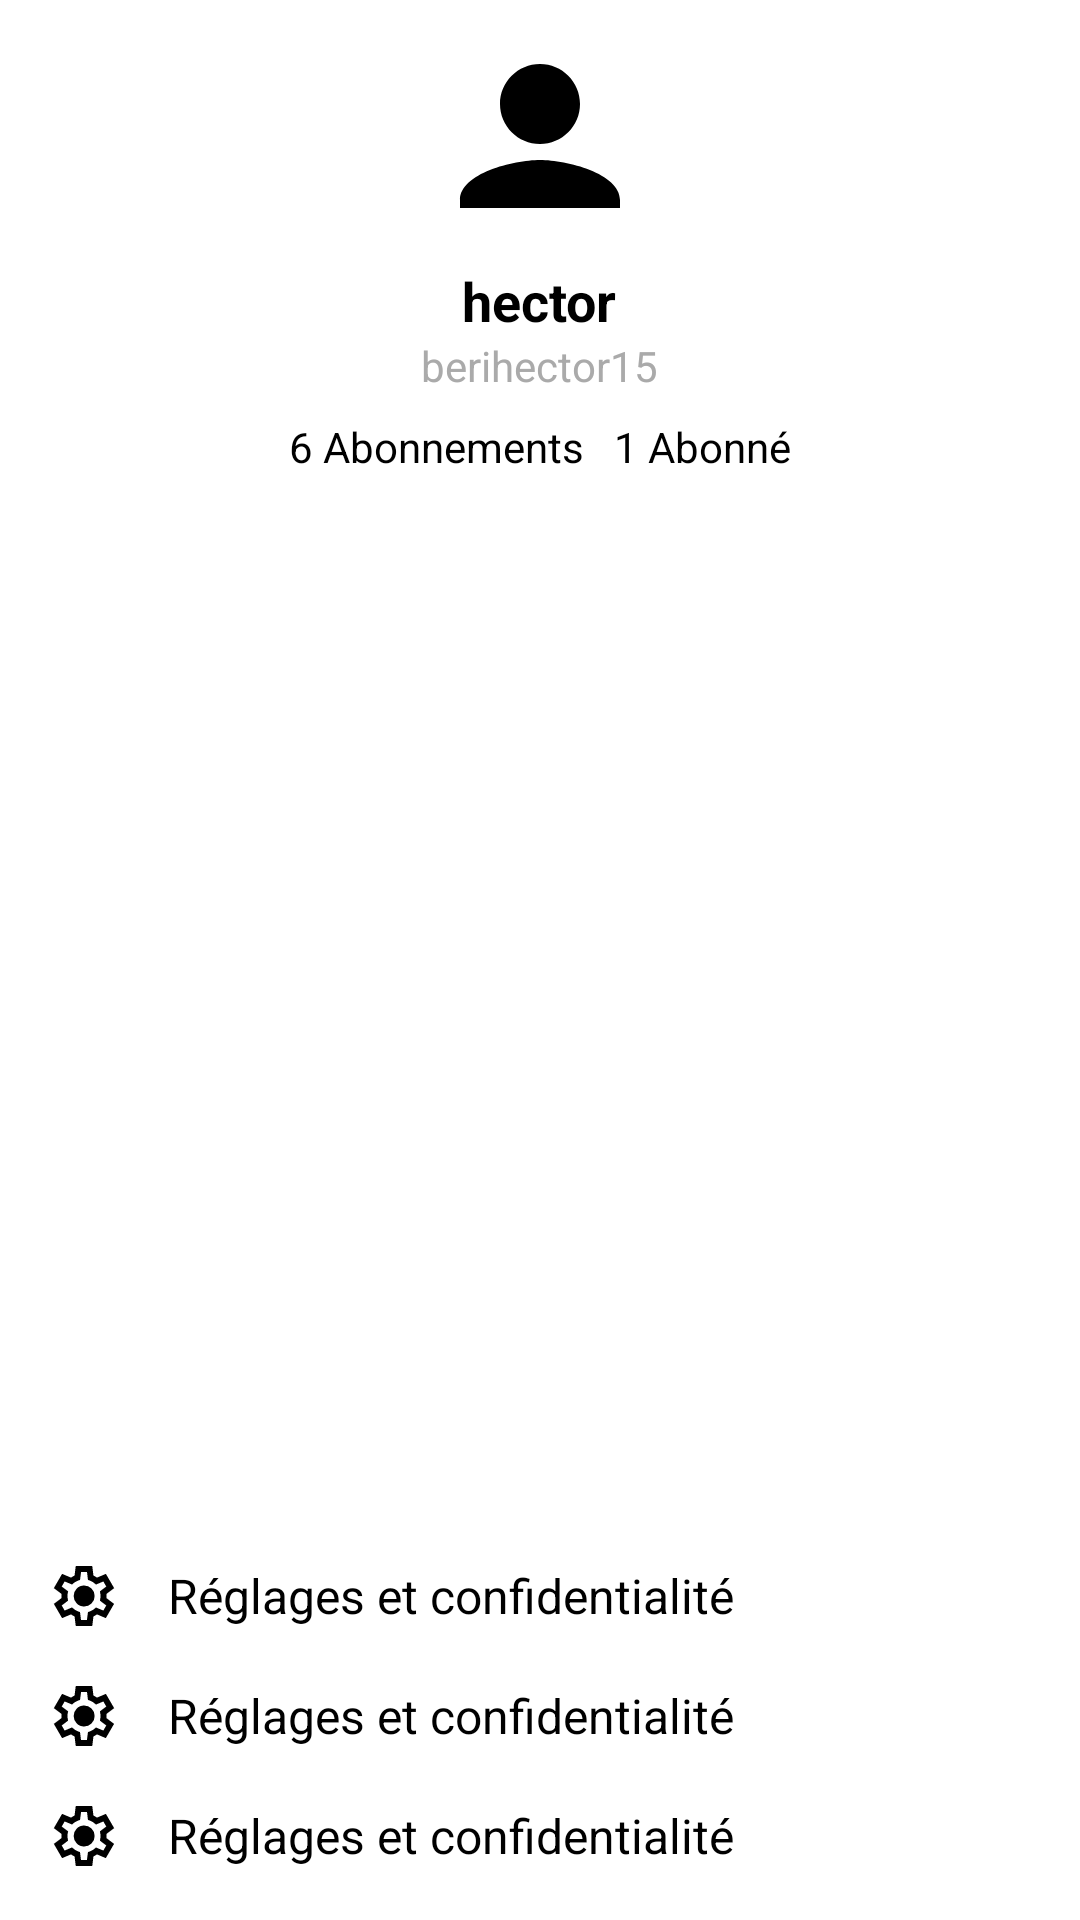

Locate icon controls on the screen. Image size 1080 x 1920, boxes as {"left": x1, "top": y1, "right": x2, "bottom": y2}.
Profile Picture: {"left": 460, "top": 64, "right": 620, "bottom": 208}
